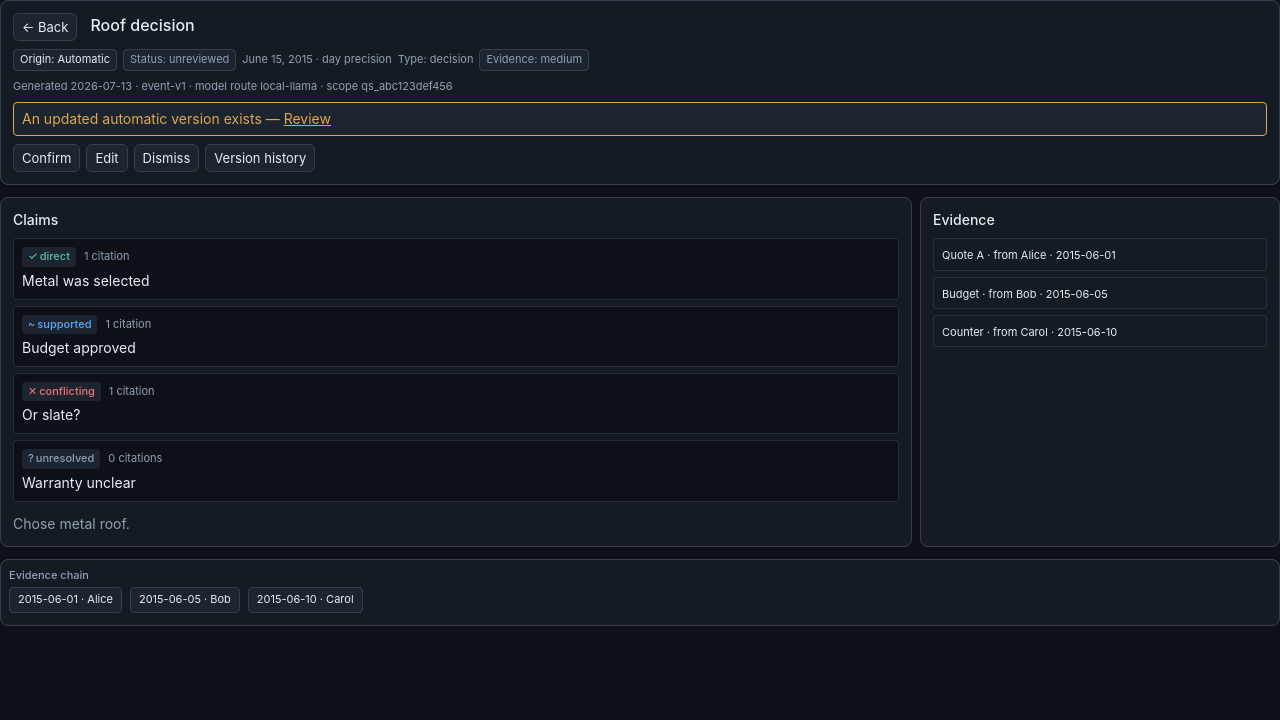
Scenario: ReconstructionView › stale marker on hash mismatch after expand (mock context re-fetch)
This screenshot has width=1280, height=720.
Expected: the list item with test id "recon-citation" that starts with "Quote A · from Alice · 2015-06-01" is shown, [933,238,1267,271]
Click the button with test id "recon-citation-toggle" that starts with "Quote A · from Alice · 2015-06-01": (1100, 256) [942,248,1258,264]
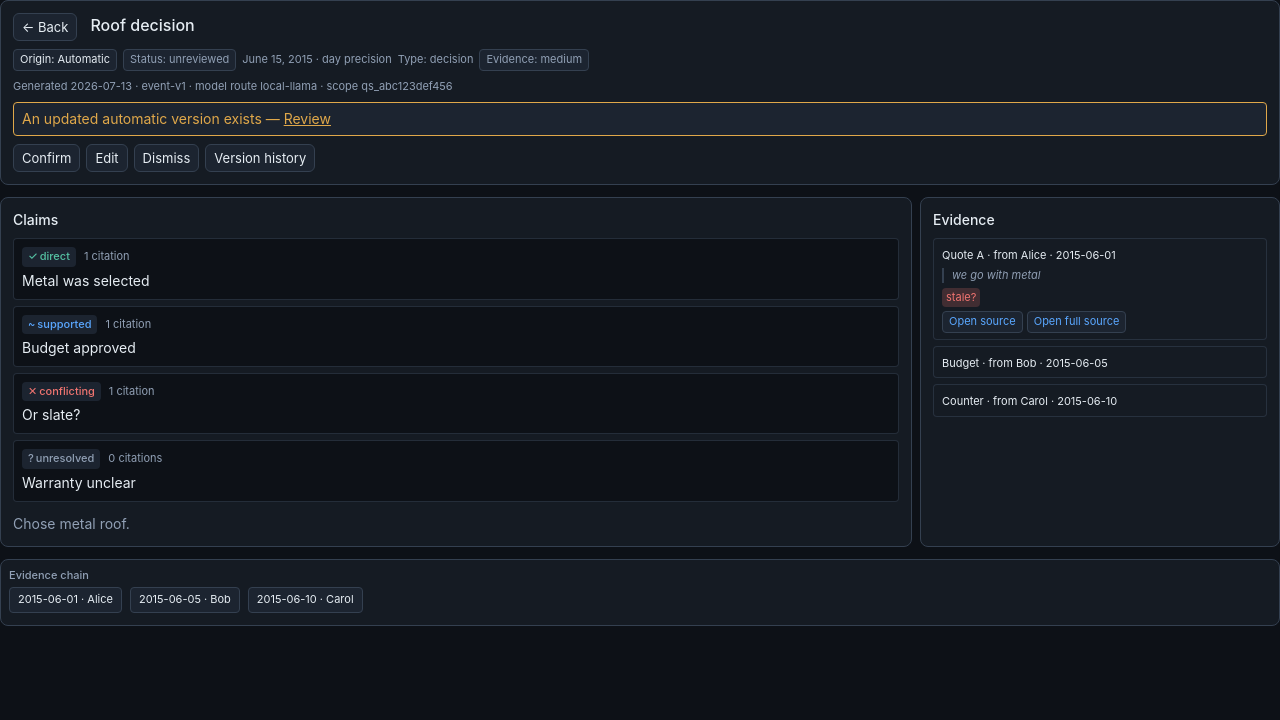
Result: the text with test id "recon-citation-stale" reads "stale?" at [946,290,976,304]
